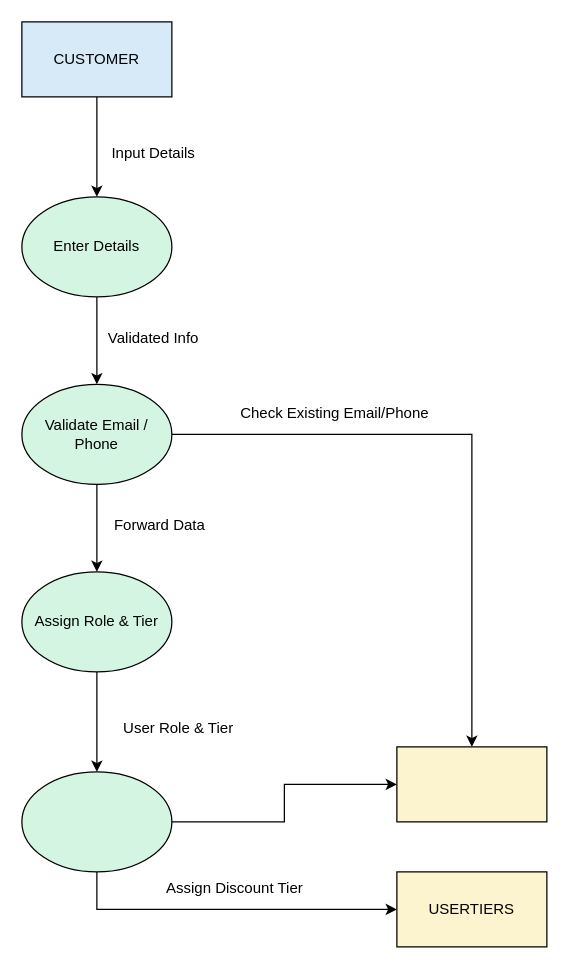
Image size: 569x969. Some labels were removed from this diagram. Here are the shapes that lost their labels. From the top down, the centre of each, then its label:
(471,784): Users
(96,821): Store User Info
